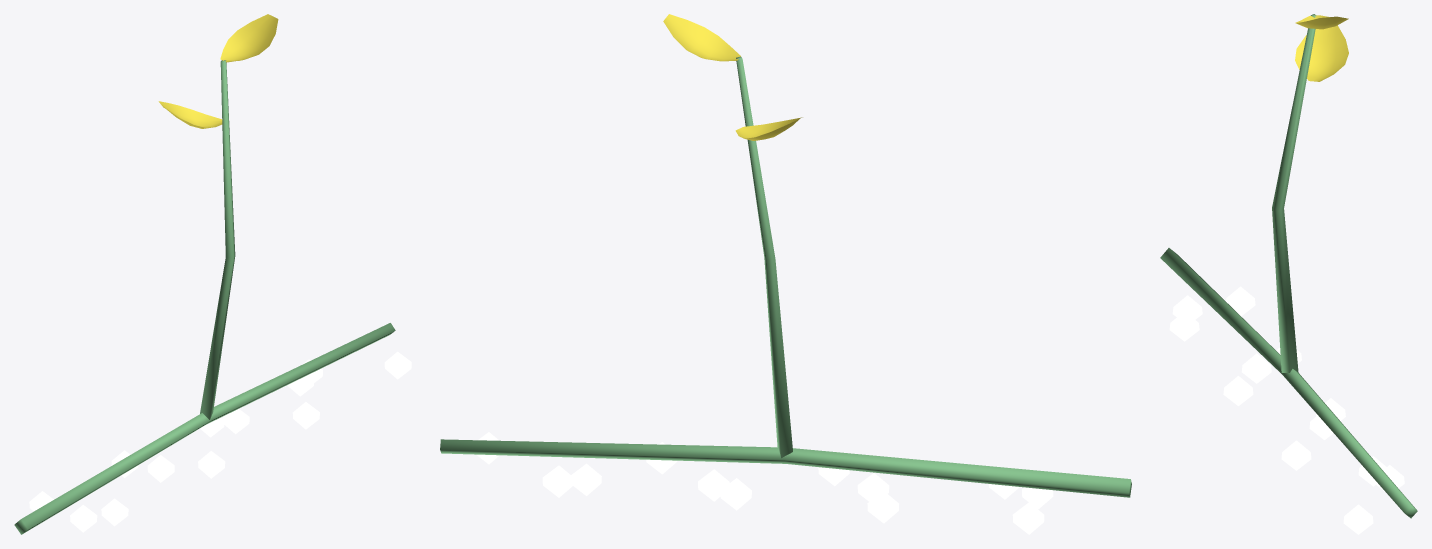
The model's file is carnivorous_bladderwort.glb.
3 views of the same model, side by side, from view 1: azimuth 30°, elevation 25°; view 2: azimuth 150°, elevation 25°; view 3: azimuth 270°, elevation 25° (orthographic). The views are drawn at different scales.
Parts seen in each view (by area): view 1: Flora_Bladderwort; view 2: Flora_Bladderwort; view 3: Flora_Bladderwort.
Part boxes in pixels (box(x1,y1,x2,y2)): Flora_Bladderwort: box(14, 14, 411, 534); Flora_Bladderwort: box(440, 14, 1131, 534); Flora_Bladderwort: box(1160, 14, 1417, 534).
Bounding box in the file's own units: 0.5052 × 0.4049 × 0.213.
